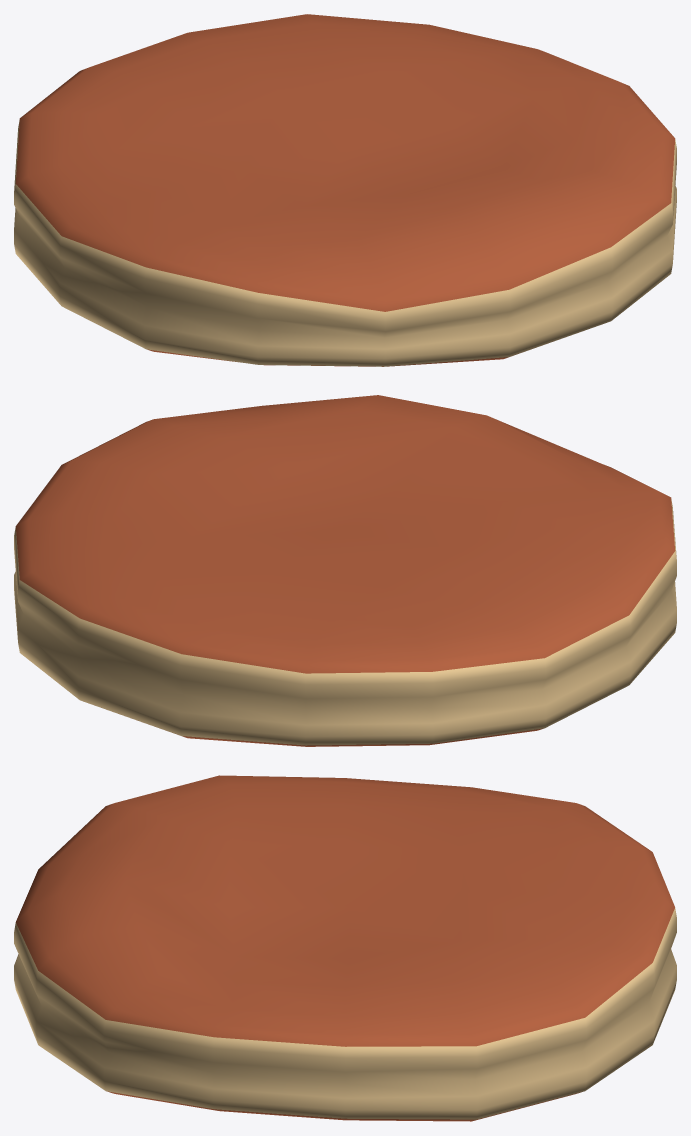
The model's file is Pancake0.fbx.
3 views of the same model, one above another, from view 1: azimuth 30°, elevation 25°; view 2: azimuth 150°, elevation 25°; view 3: azimuth 270°, elevation 25° (orthographic).
Parts seen in each view (by area): view 1: Cube; view 2: Cube; view 3: Cube.
Boxes of the visible parts, x1,y1,x2,y2 form: Cube: (14,14,676,366); Cube: (14,395,676,746); Cube: (14,775,676,1121).
Bounding box in the file's own units: 327 × 67.43 × 327.
